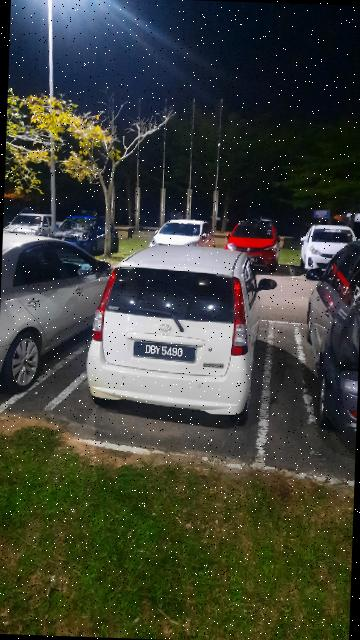License_Plate: (129, 339, 199, 365)
car: (87, 240, 280, 424), (1, 227, 120, 391), (293, 226, 360, 441)
